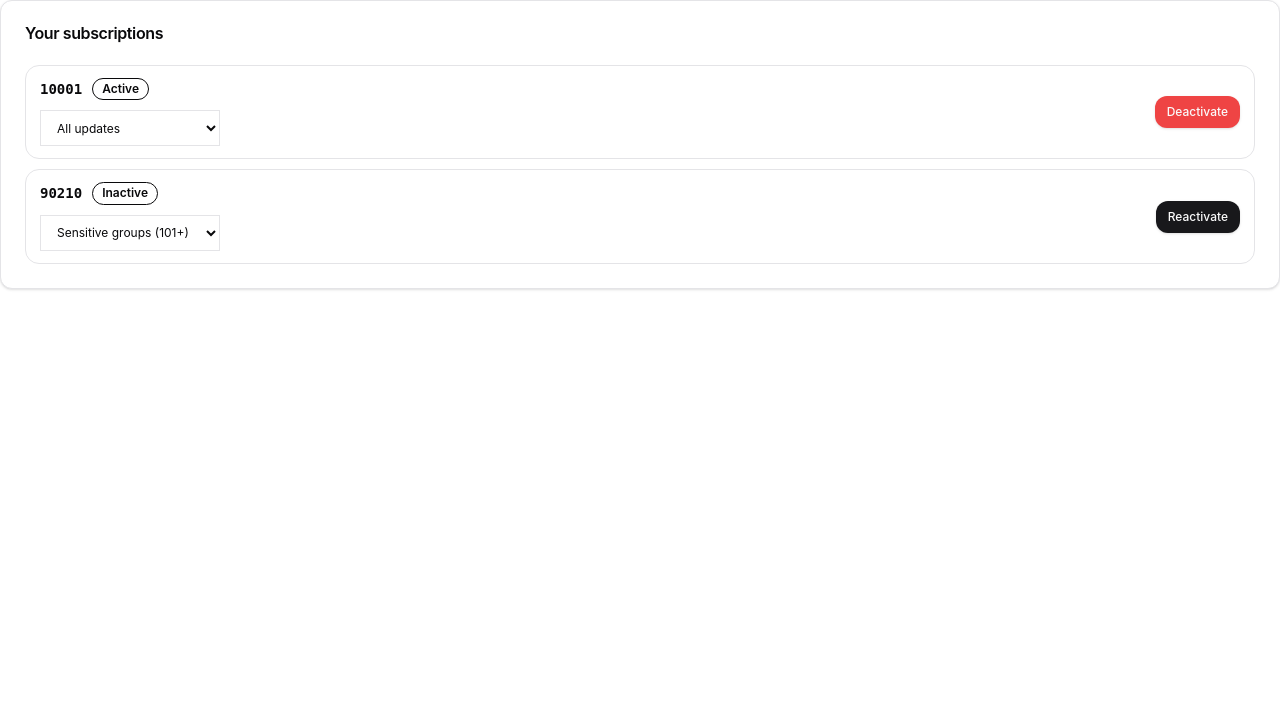
Test: SubscriptionList › opens confirmation modal on toggle click and confirms
expect the text "10001" is shown: met, box 40,79 -> 82,100
Click the deactivate button for sub-1
Click the button "Deactivate" at (1197, 112), box 1155,96 -> 1240,128
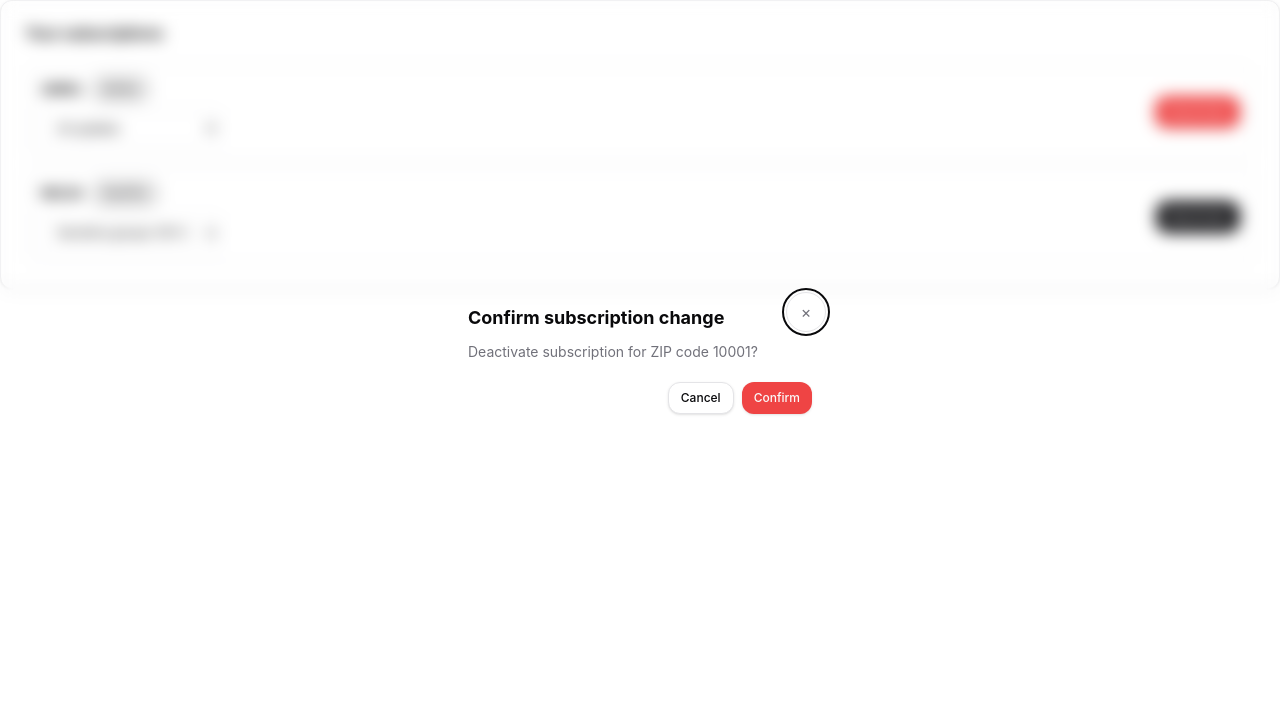
expect the text "Deactivate subscription for ZIP code 10001?" is shown: met, box 468,343 -> 758,360
Click Confirm
Click the button "Confirm" at (777, 398), box 742,382 -> 812,414
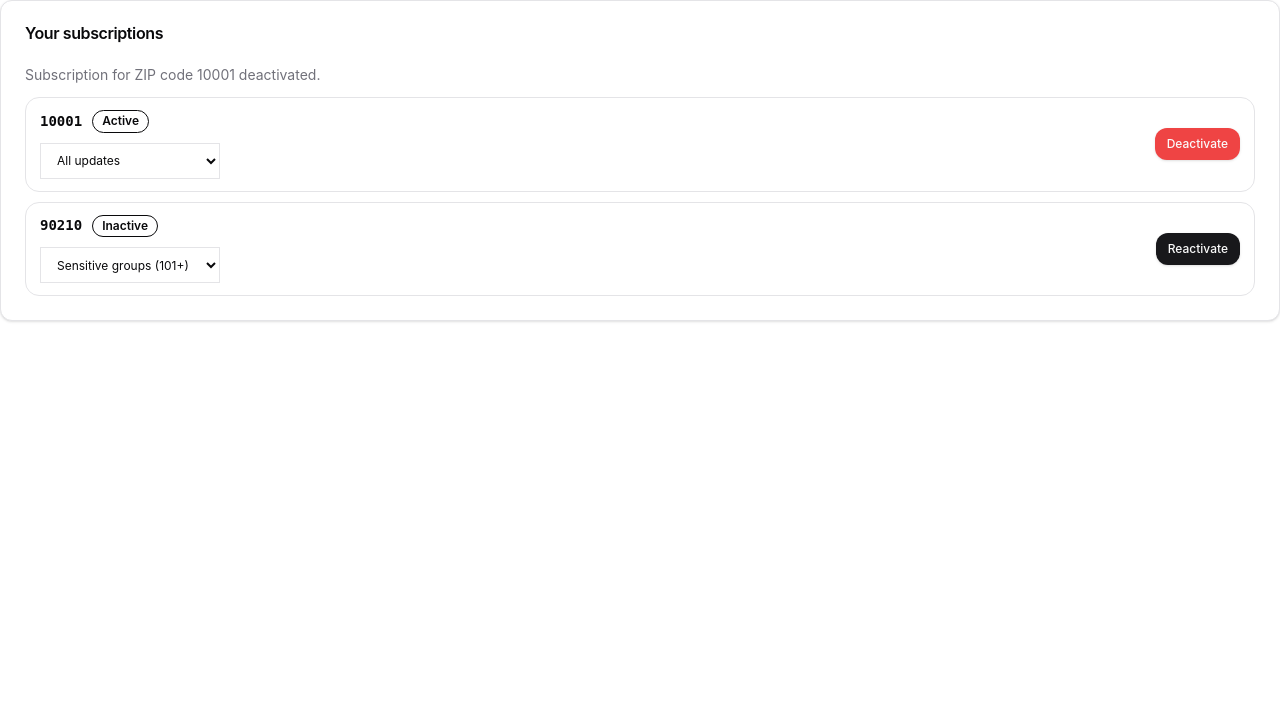
expect the text "Deactivate subscription for ZIP code 10001" is gone: met
